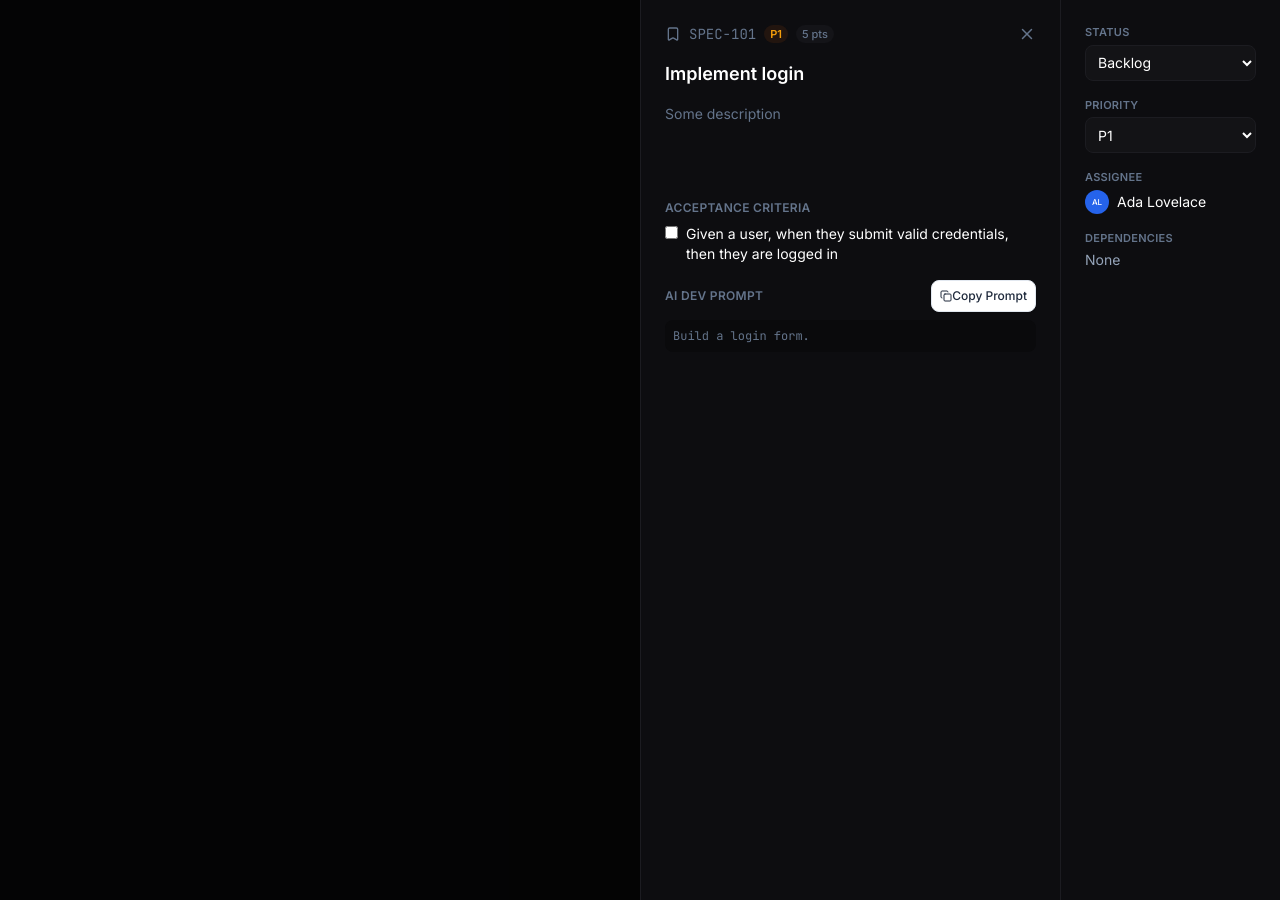
TicketDetailModal › shows an error toast and rolls back when a status change is rejected for dependencies
Select "Done" in the dropdown labelled "Status": (1170, 62) [1085,44,1256,80]
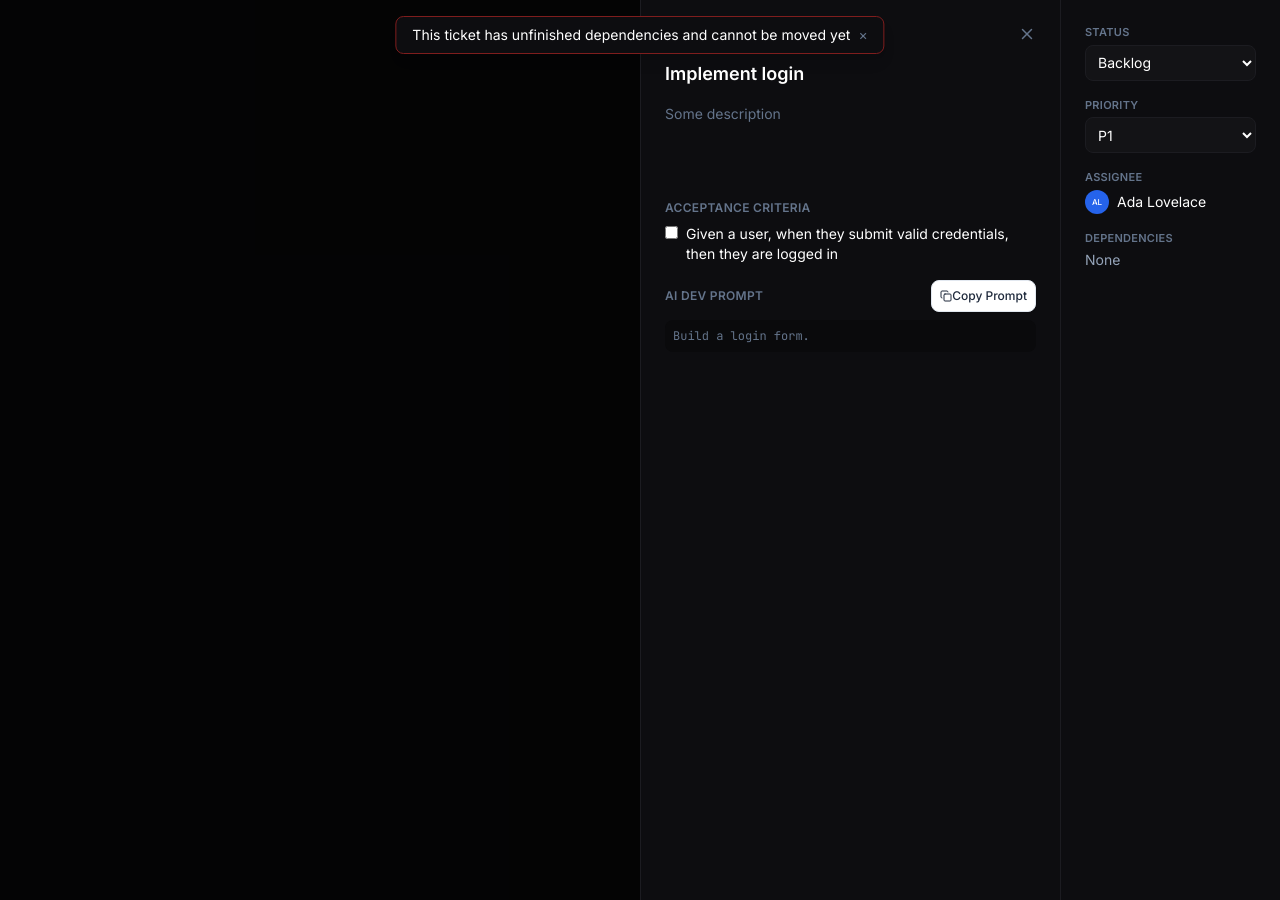
Now the text "This ticket has unfinished dependencies and cannot be moved yet" is shown, box [412,25,850,45]
